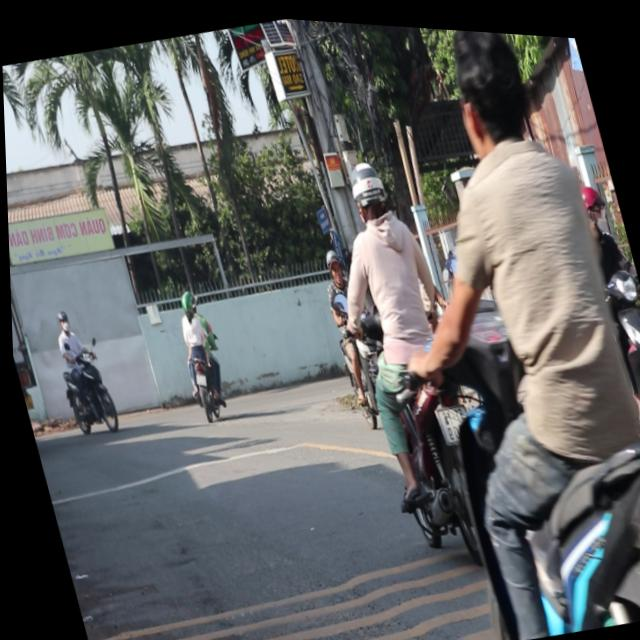helmet: (343, 150, 395, 223)
licenseplate: (321, 17, 640, 640), (306, 141, 506, 567)
motorcyclist: (436, 23, 545, 158)
